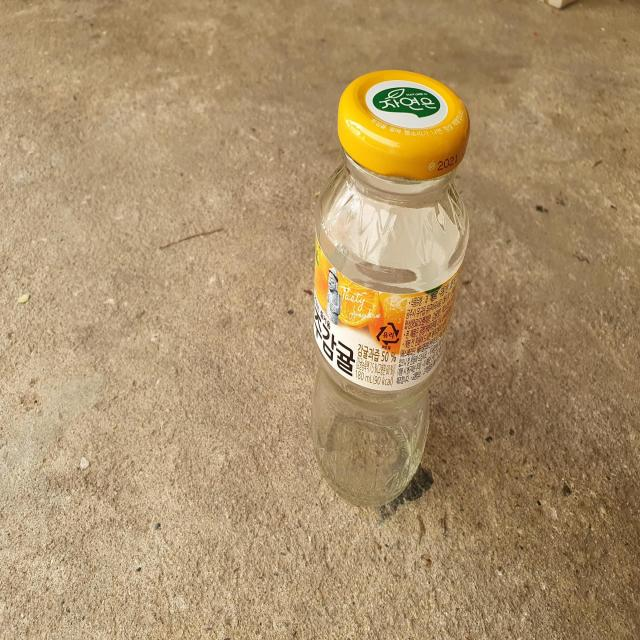glass: (312, 69, 471, 506)
